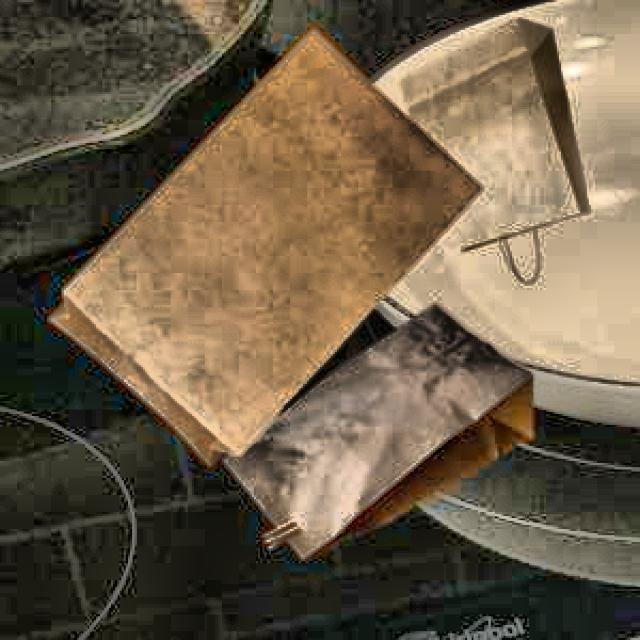Paper-bag: (55, 20, 477, 458), (232, 308, 567, 578)
